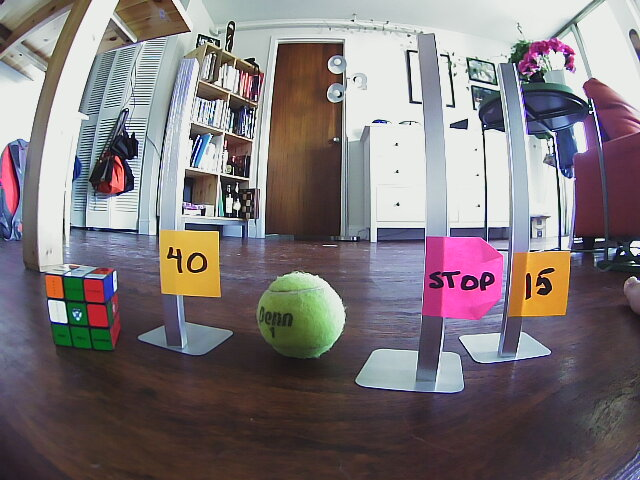15: (512, 253, 566, 313)
40: (161, 233, 219, 292)
ball: (257, 270, 349, 361)
cube: (43, 263, 120, 350)
stop: (427, 242, 501, 318)
